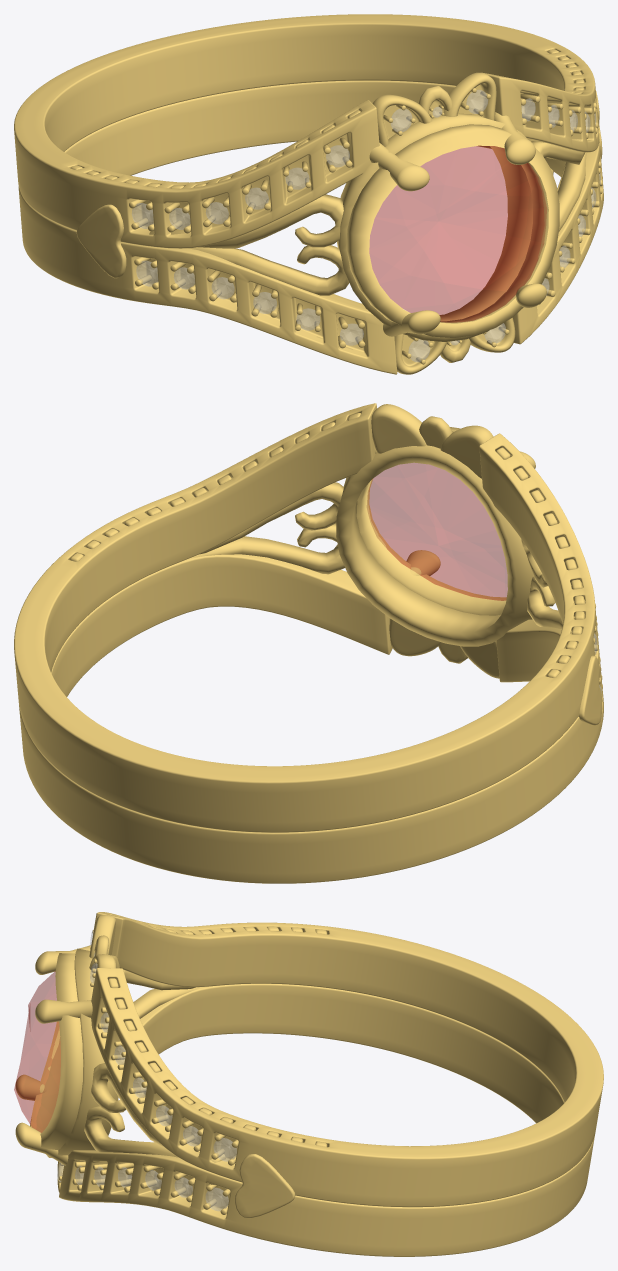
Rendered from altin-kirmizi-tas.glb.
3 views of the same model, one above another, from view 1: azimuth 30°, elevation 25°; view 2: azimuth 150°, elevation 25°; view 3: azimuth 270°, elevation 25° (orthographic). The views are drawn at different scales.
Visible parts, largest first — view 1: Gold womens ring - Regal Crimson, Gem_Ruby, Gold_Ring_big_prong_01, Gold_Ring_heart_pattern_02, Gold_Ring_small_diamonds, Gold_Ring_decor01, Gold_Ring_prongs_02, Gold_Ring_big_prong_02, Gold_Ring_heart_pattern, Gold_Ring_decor02, Gold_Ring_decor_02, Gold_Ring_prongs_for_decor; view 2: Gold womens ring - Regal Crimson, Gold_Ring_big_prong_01, Gem_Ruby, Gold_Ring_heart_pattern_02, Gold_Ring_decor01, Gold_Ring_decor_02, Gold_Ring_heart_pattern, Gold_Ring_decor02, Gold_Ring_big_prong_02; view 3: Gold womens ring - Regal Crimson, Gold_Ring_big_prong_01, Gem_Ruby, Gold_Ring_heart_pattern_02, Gold_Ring_small_diamonds, Gold_Ring_big_prong_02, Gold_Ring_prongs_02, Gold_Ring_heart_pattern, Gold_Ring_decor_02, Gold_Ring_decor01.
Boxes of the visible parts, bbox=[...] form: Gold womens ring - Regal Crimson: bbox=[14, 14, 603, 374]; Gem_Ruby: bbox=[369, 146, 546, 322]; Gold_Ring_big_prong_01: bbox=[337, 113, 559, 341]; Gold_Ring_heart_pattern_02: bbox=[149, 141, 587, 295]; Gold_Ring_small_diamonds: bbox=[132, 90, 600, 361]; Gold_Ring_decor01: bbox=[372, 72, 515, 374]; Gold_Ring_prongs_02: bbox=[129, 94, 602, 348]; Gold_Ring_big_prong_02: bbox=[369, 112, 546, 336]; Gold_Ring_heart_pattern: bbox=[76, 90, 602, 278]; Gold_Ring_decor02: bbox=[418, 86, 470, 362]; Gold_Ring_decor_02: bbox=[70, 49, 584, 350]; Gold_Ring_prongs_for_decor: bbox=[383, 88, 509, 364]; Gold womens ring - Regal Crimson: bbox=[14, 403, 603, 883]; Gold_Ring_big_prong_01: bbox=[336, 427, 534, 646]; Gem_Ruby: bbox=[367, 463, 507, 600]; Gold_Ring_heart_pattern_02: bbox=[192, 482, 597, 654]; Gold_Ring_decor01: bbox=[371, 404, 499, 678]; Gold_Ring_decor_02: bbox=[70, 413, 584, 677]; Gold_Ring_heart_pattern: bbox=[578, 655, 602, 725]; Gold_Ring_decor02: bbox=[419, 416, 467, 663]; Gold_Ring_big_prong_02: bbox=[374, 447, 535, 575]; Gold womens ring - Regal Crimson: bbox=[59, 912, 603, 1256]; Gold_Ring_big_prong_01: bbox=[30, 948, 119, 1157]; Gem_Ruby: bbox=[14, 971, 60, 1132]; Gold_Ring_heart_pattern_02: bbox=[84, 970, 225, 1184]; Gold_Ring_small_diamonds: bbox=[57, 930, 236, 1210]; Gold_Ring_big_prong_02: bbox=[15, 945, 92, 1165]; Gold_Ring_prongs_02: bbox=[72, 1007, 238, 1214]; Gold_Ring_heart_pattern: bbox=[235, 1154, 295, 1218]; Gold_Ring_decor_02: bbox=[100, 914, 327, 1191]; Gold_Ring_decor01: bbox=[57, 915, 115, 1192].
Bounding box in the file's own units: 0.0181 × 0.00895 × 0.02.
